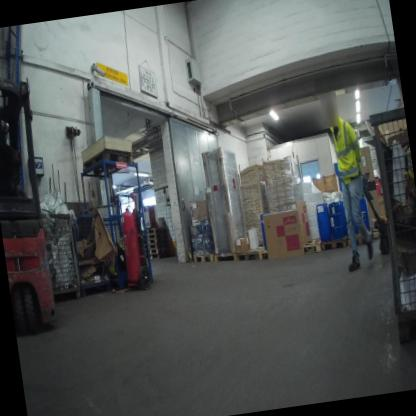forklift: (0, 62, 70, 342)
pallet: (204, 236, 235, 267), (342, 227, 375, 252), (315, 229, 344, 255), (232, 244, 266, 266), (300, 236, 323, 259), (190, 245, 210, 261), (142, 225, 157, 233), (147, 246, 159, 254), (143, 230, 156, 237), (145, 241, 158, 248), (145, 236, 157, 243)
pallet_truck: (358, 162, 394, 260)
stillage: (361, 99, 416, 344), (64, 194, 128, 299), (30, 200, 87, 307)
